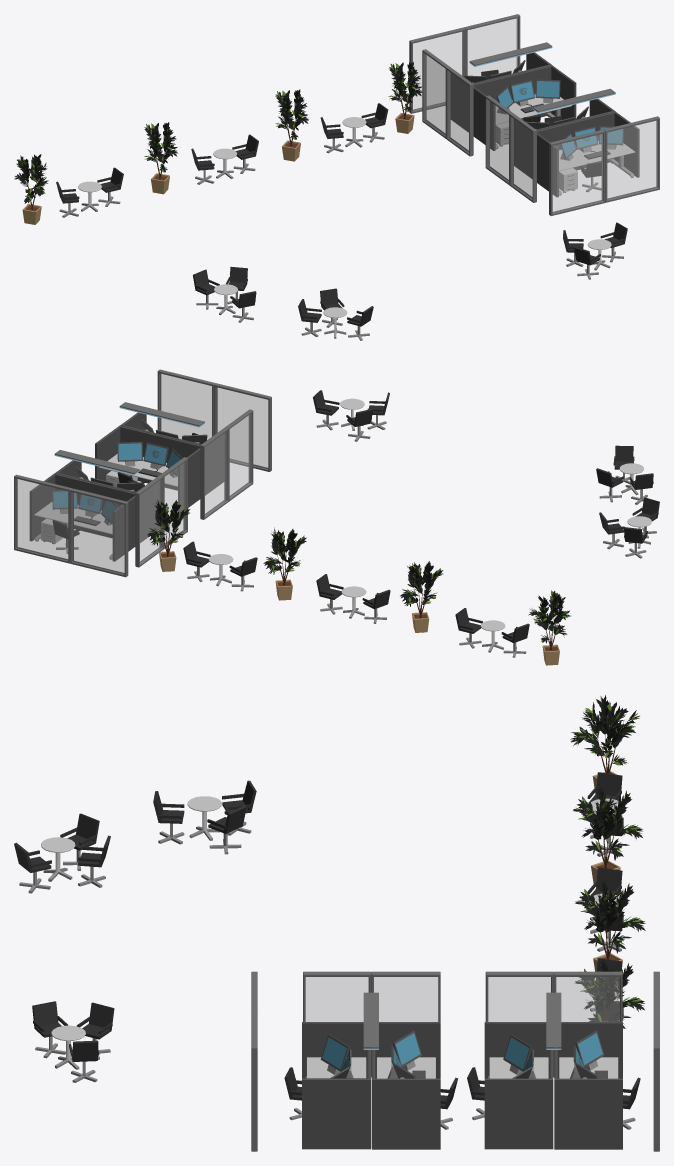
The picture shows the model from 3 angles, top to bottom: view 1: azimuth 30°, elevation 25°; view 2: azimuth 150°, elevation 25°; view 3: azimuth 270°, elevation 25°; orthographic projection. The views are drawn at different scales.
Parts seen in each view (by area): view 1: d-roomcomp-r6-server; view 2: d-roomcomp-r6-server; view 3: d-roomcomp-r6-server.
Boxes of the visible parts, x1=… form: d-roomcomp-r6-server: x1=14, y1=14, x2=659, y2=340; d-roomcomp-r6-server: x1=14, y1=369, x2=659, y2=665; d-roomcomp-r6-server: x1=14, y1=695, x2=659, y2=1151.
Size of the model in its own units: 25.03 by 3.33 by 18.81.
4 materials, 3 textured.
